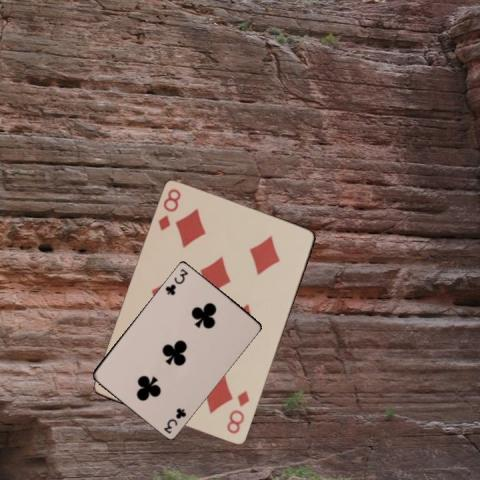3c: (162, 265, 189, 297), (161, 404, 188, 434)
8d: (224, 387, 251, 436), (155, 186, 183, 233)
